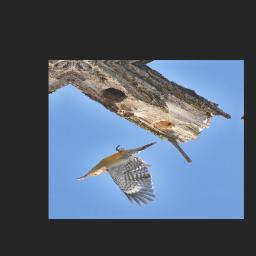Woodpecker: (71, 137, 167, 208)
